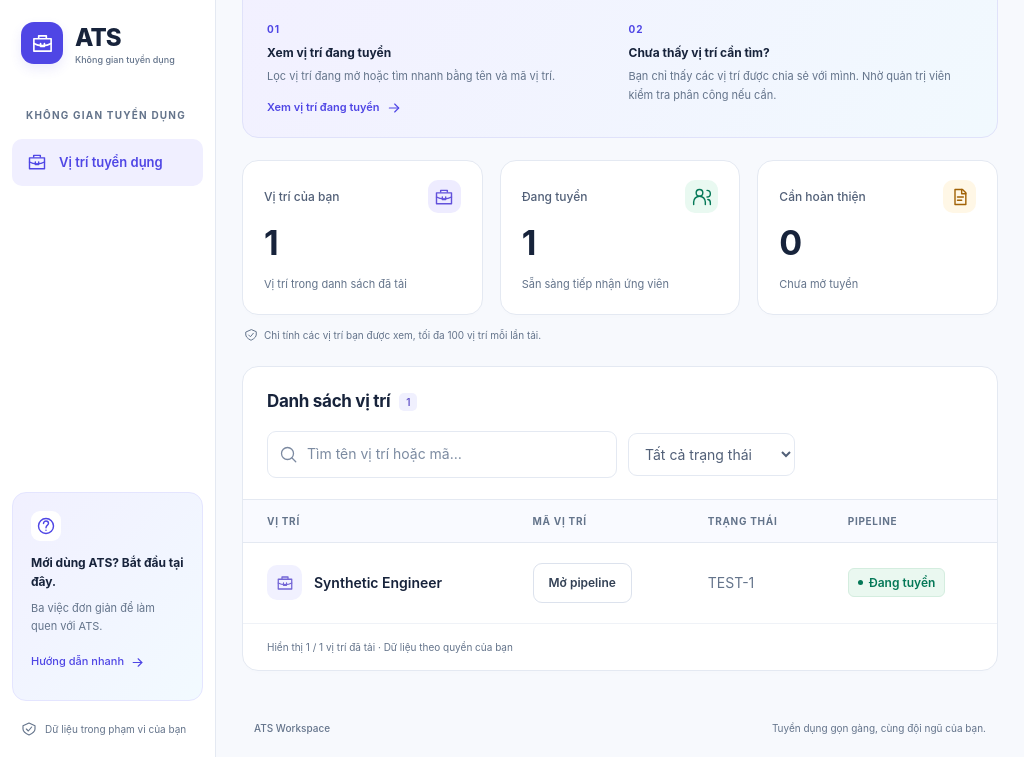
HM sees scoped jobs and accurate loaded counts, without review entry
(page scrolled)
Expected: the text "Synthetic Engineer" is shown, [314,572,442,594]
Expected: the text "Hiển thị 1 / 1 vị trí đã tải · Dữ liệu theo quyền của bạn" is shown, [267,641,513,653]
Type "Unmatched" into the field named "Tìm vị trí" at (456, 455), box [307,432,604,477]
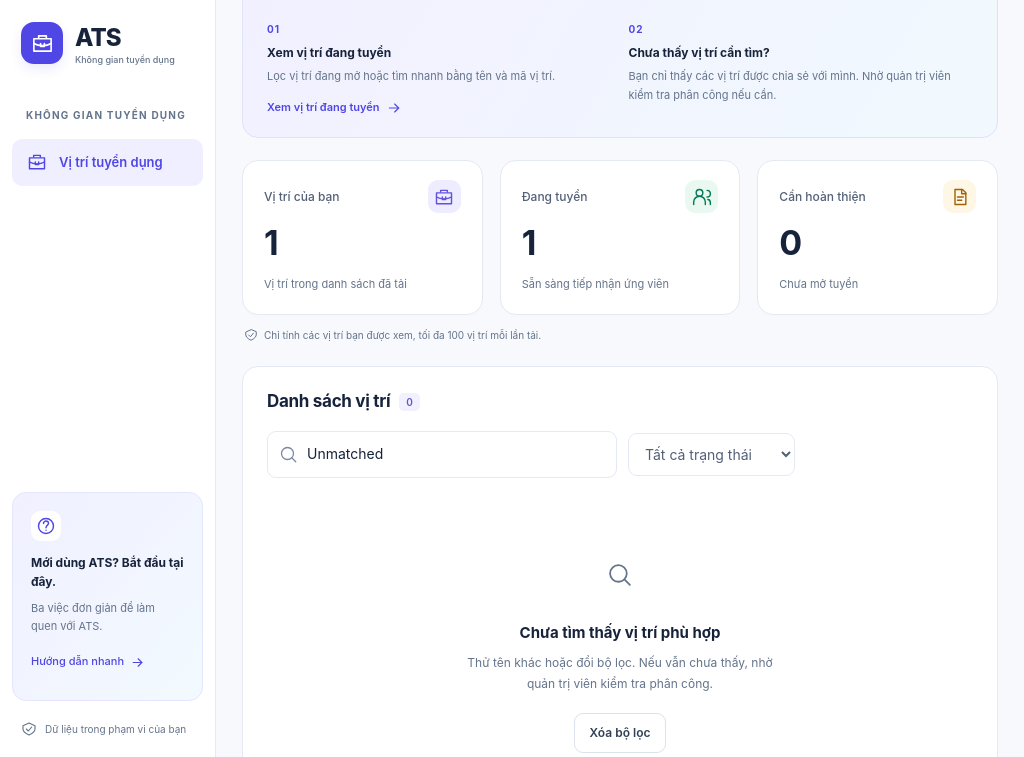
Expected: the text "Synthetic Engineer" is gone
